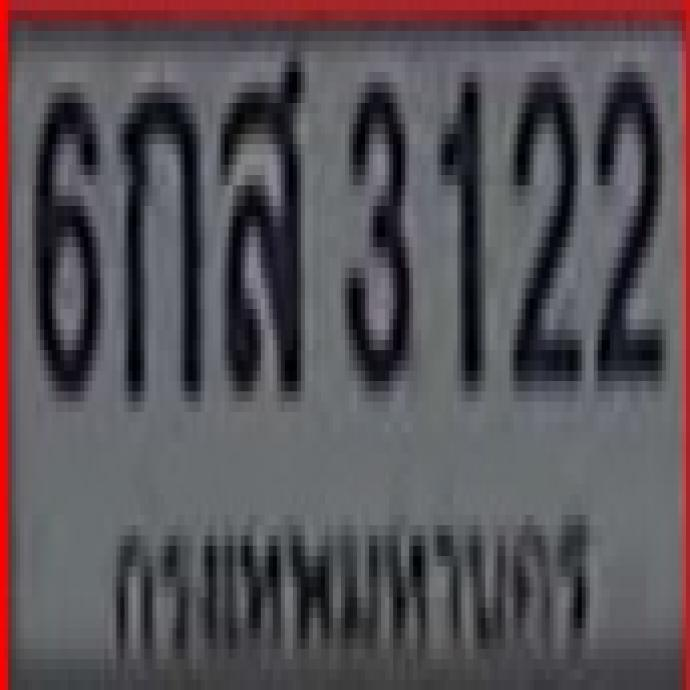1: (436, 62, 478, 381)
2: (506, 60, 575, 378), (591, 59, 659, 374)
3: (339, 70, 406, 382)
6: (30, 81, 94, 388)
A01: (116, 80, 197, 394)
A40: (217, 45, 302, 385)
BKK: (98, 487, 602, 687)
